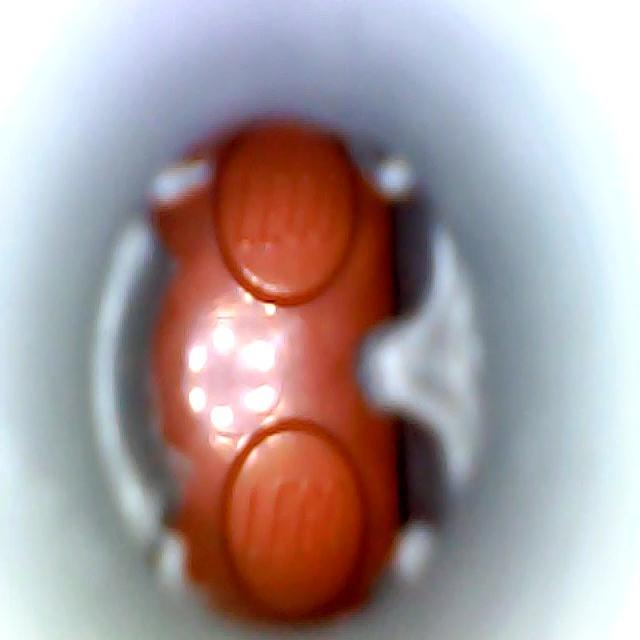studs: (224, 421, 363, 613), (213, 125, 361, 305)
